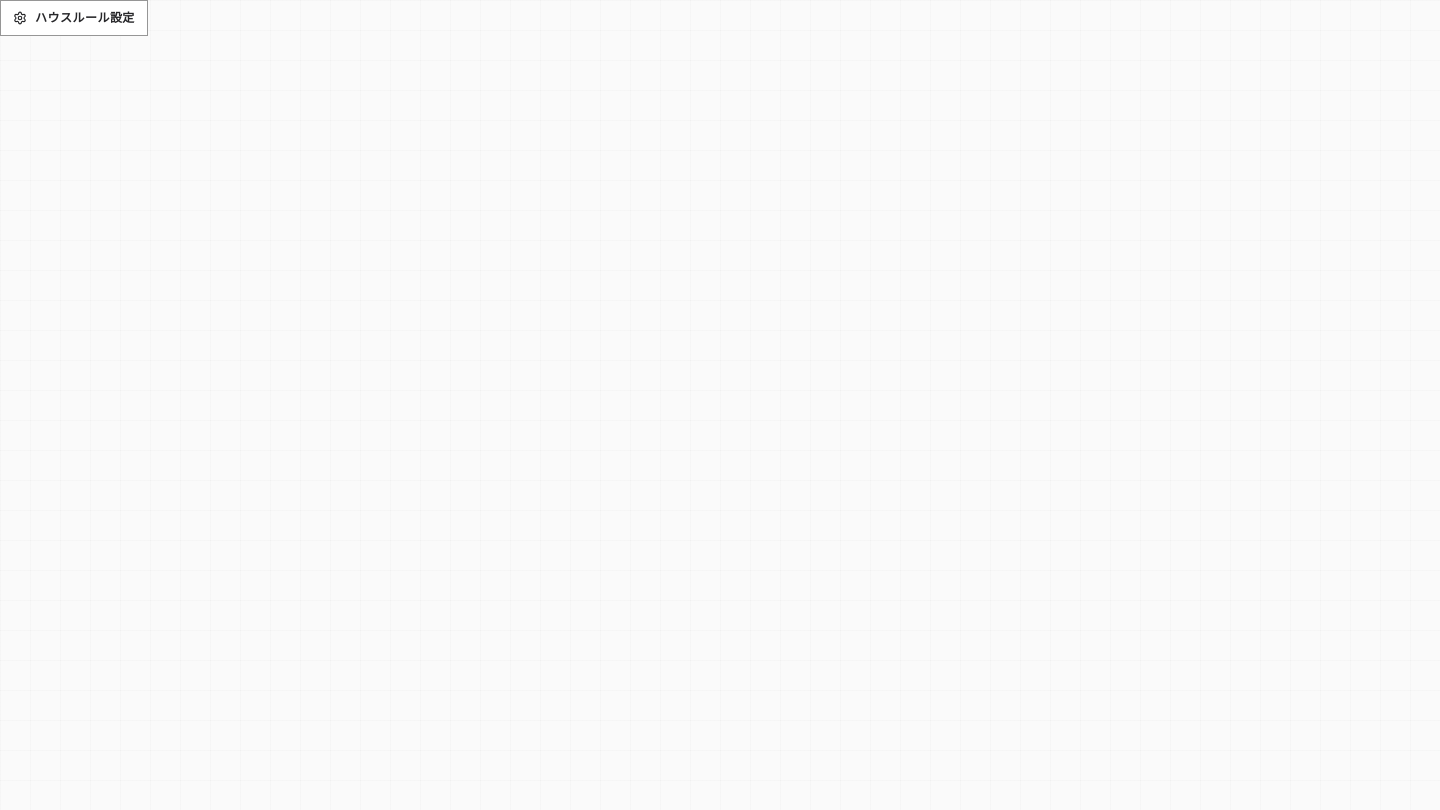
SettingsModal › 6版ではデフォルトに戻すと6版のデフォルト成長設定に戻る
Later steps or results of the test are not shown.
Click the button "ハウスルール設定" at (74, 18), box [0,0,148,36]
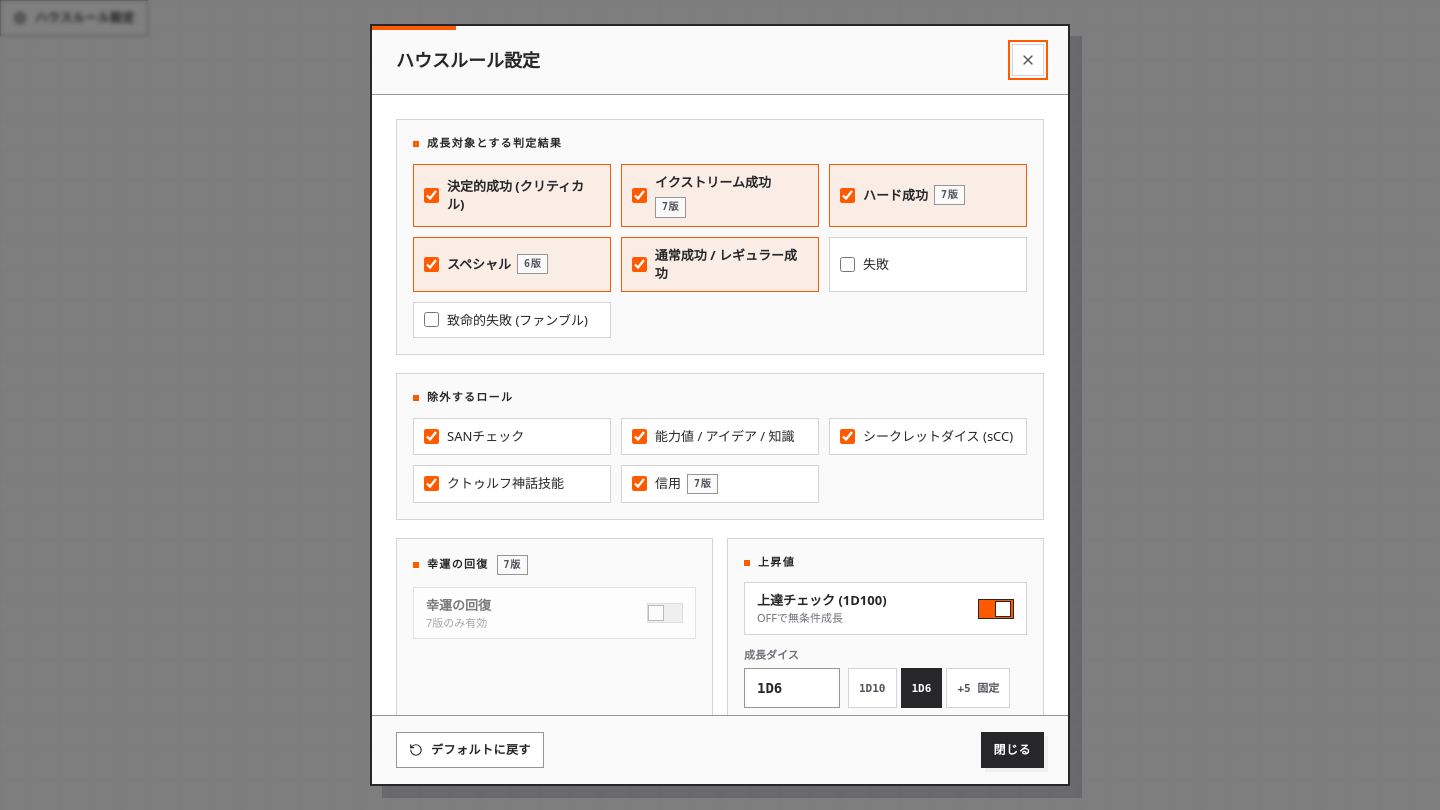
Result: the button "デフォルトに戻す" is enabled at [396,732,544,768]
